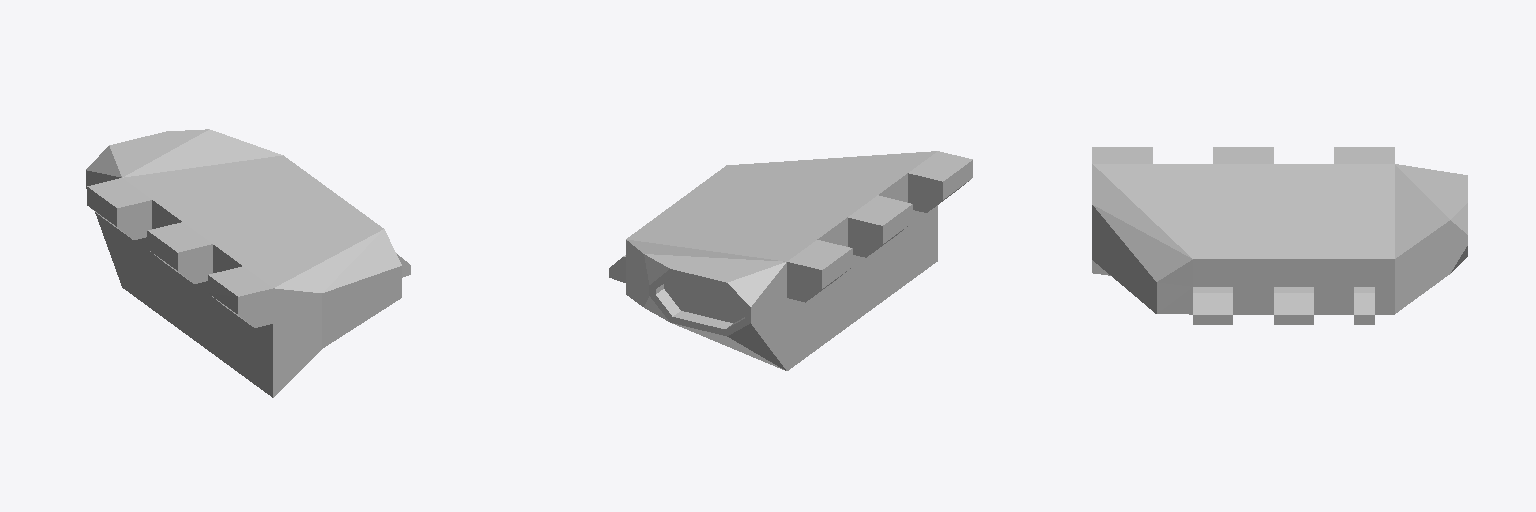
File: EMP-LWing.obj
3 renders of one model, left to right at view 1: azimuth 30°, elevation 25°; view 2: azimuth 150°, elevation 25°; view 3: azimuth 270°, elevation 25°, orthographic.
Parts seen in each view (by area): view 1: cylinder1_sep15; view 2: cylinder1_sep15; view 3: cylinder1_sep15.
Part boxes in pixels (x1,y1,x2,y2): cylinder1_sep15: (86,129,410,397); cylinder1_sep15: (609,151,972,370); cylinder1_sep15: (1092,147,1467,324).
Size of the model in its own units: 14.28 by 6.72 by 20.79.